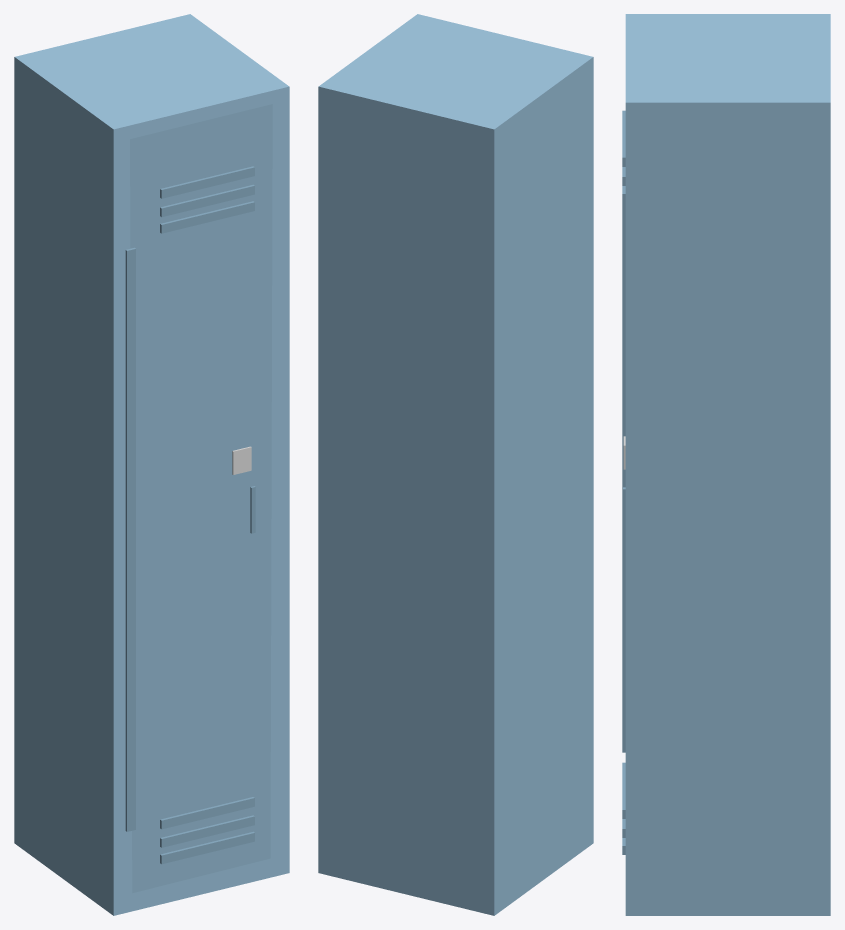
Rendered from locker_1.fbx.
3 renders of one model, left to right at view 1: azimuth 30°, elevation 25°; view 2: azimuth 150°, elevation 25°; view 3: azimuth 270°, elevation 25°, orthographic. The views are drawn at different scales.
Parts seen in each view (by area): view 1: Cube_4; view 2: Cube_4; view 3: Cube_4.
Part boxes in pixels (x1,y1,x2,y2): Cube_4: [14, 14, 289, 915]; Cube_4: [318, 14, 593, 915]; Cube_4: [622, 14, 830, 915].
Size of the model in its own units: 63.35 by 271 by 62.81.
